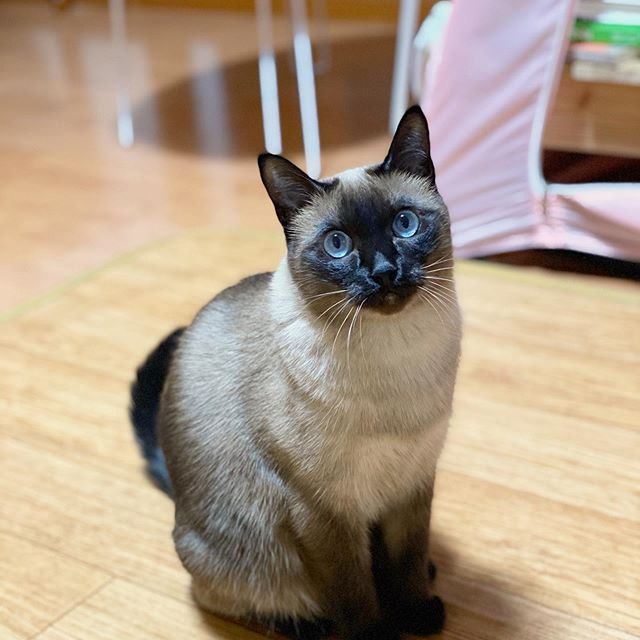cat: (241, 101, 461, 337)
